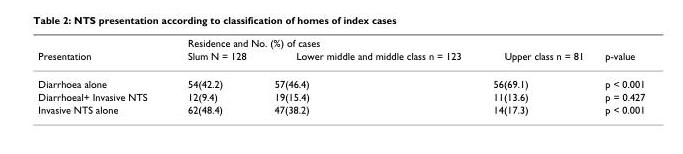table: (37, 36, 644, 115)
table column: (259, 36, 476, 115), (37, 36, 166, 115), (476, 36, 593, 115), (166, 36, 259, 115), (593, 36, 644, 115)
table column header: (37, 36, 644, 69)
table row: (37, 48, 644, 69), (37, 69, 644, 89), (37, 89, 644, 102), (37, 102, 644, 115), (37, 36, 644, 48)
table spanning cell: (166, 36, 644, 48), (37, 36, 166, 69)
